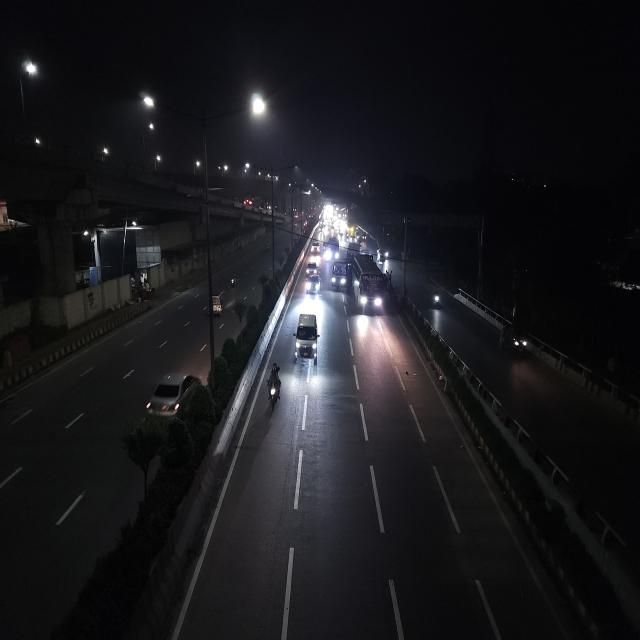bus: (346, 253, 388, 318), (330, 258, 346, 292), (324, 236, 340, 262)
car: (141, 367, 203, 425), (291, 309, 321, 367), (303, 274, 322, 298), (303, 258, 321, 276), (309, 238, 322, 258)
cng: (496, 320, 530, 358), (204, 288, 226, 318)
motorcycle: (264, 360, 284, 413), (429, 288, 443, 310), (228, 271, 240, 288)
